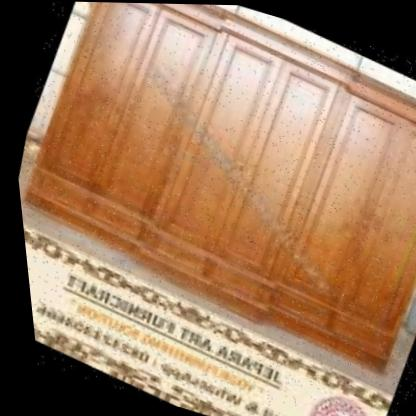Closet: (0, 0, 416, 391)
